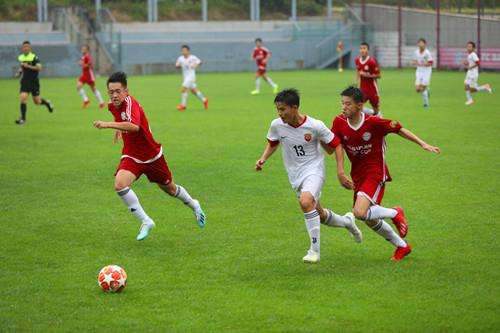football: (97, 263, 129, 294)
